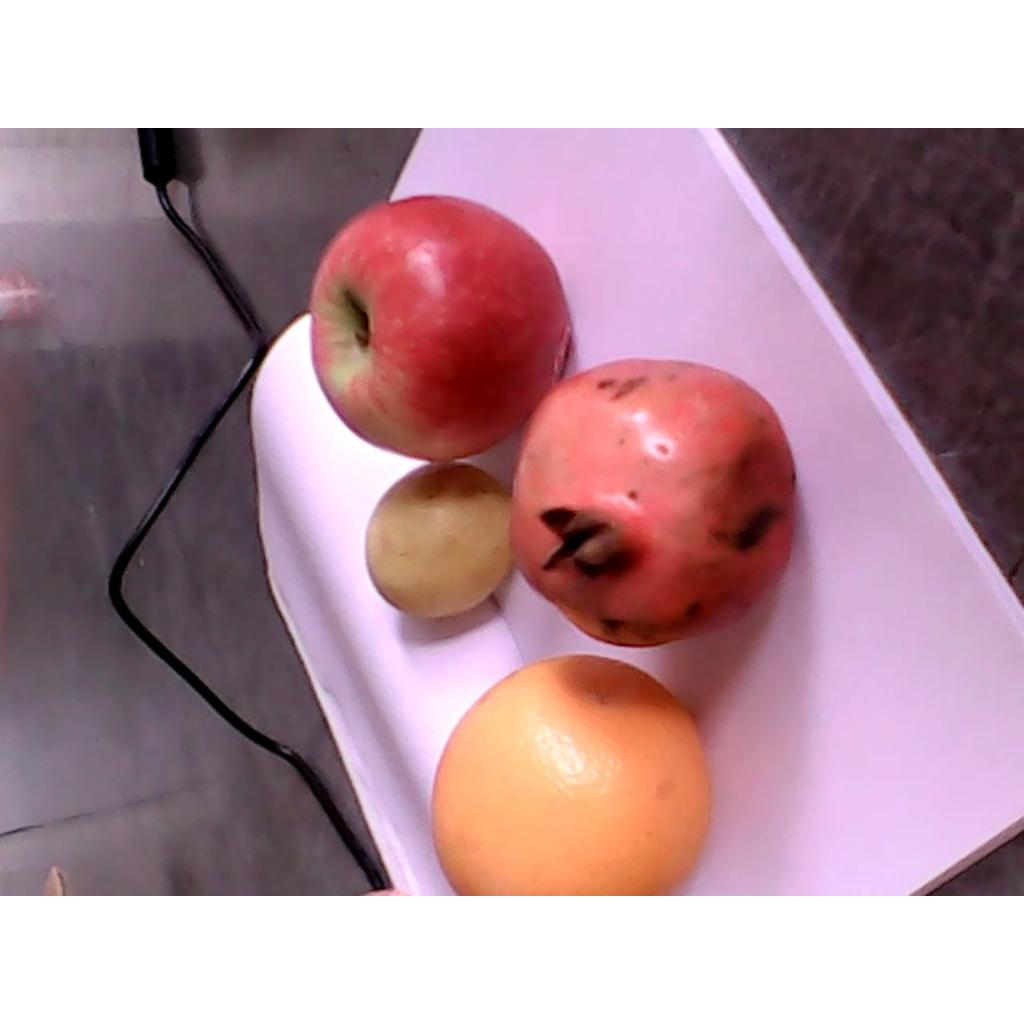apple: (312, 196, 570, 462)
lemon: (363, 456, 511, 623)
orange: (431, 653, 711, 892)
pomegranate: (509, 360, 800, 645)
